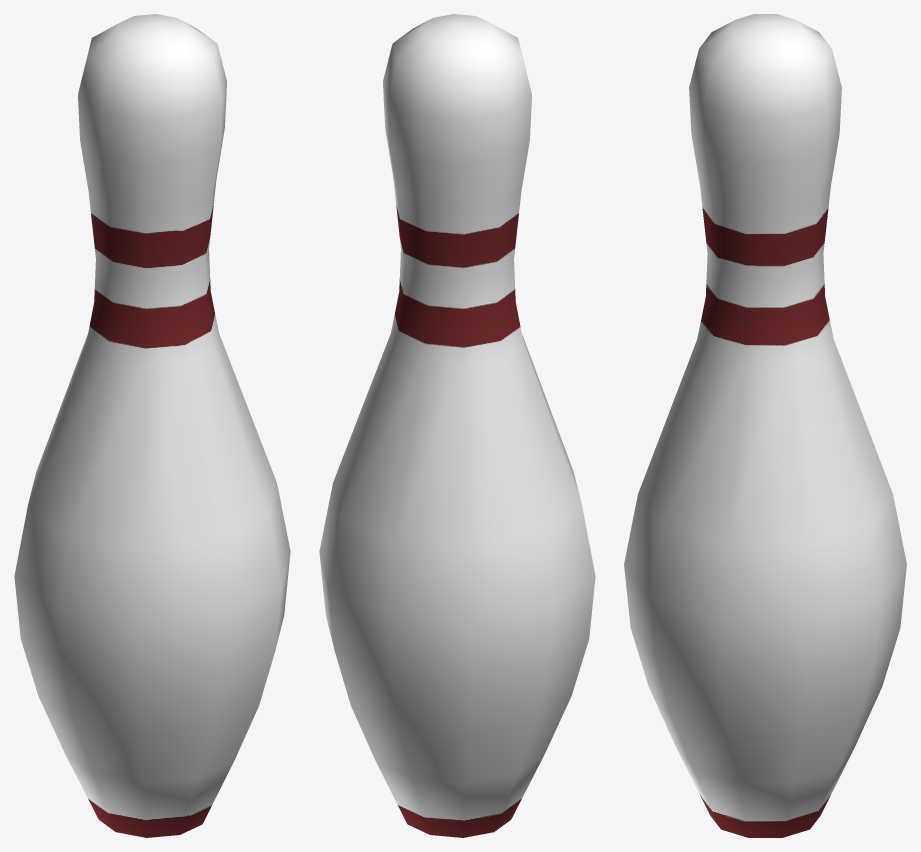
Rendered from kega.FBX.
3 renders of one model, left to right at view 1: azimuth 30°, elevation 25°; view 2: azimuth 150°, elevation 25°; view 3: azimuth 270°, elevation 25°, orthographic.
Visible parts, largest first — view 1: kega; view 2: kega; view 3: kega.
Boxes of the visible parts, x1,y1,x2,y2 form: kega: (14,14,290,837); kega: (319,14,595,837); kega: (624,14,906,837).
Size of the model in its own units: 0.0924 by 0.3002 by 0.0972.
Materials: 1 (1 with a texture image).
